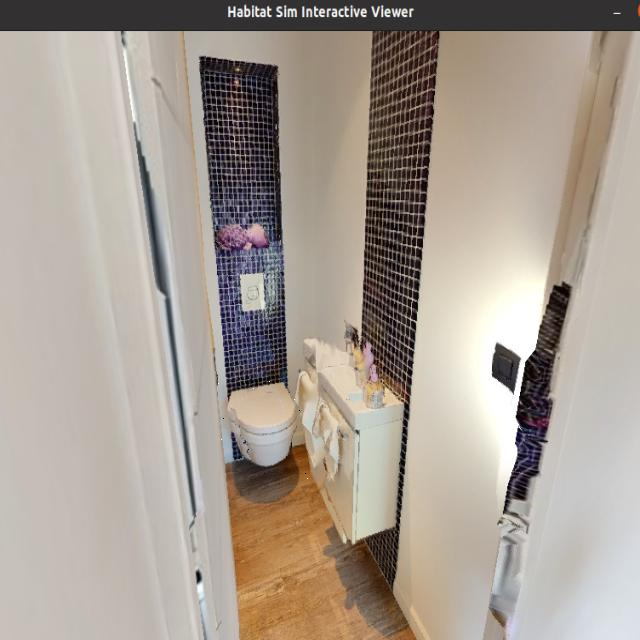toilet: (213, 374, 313, 483)
